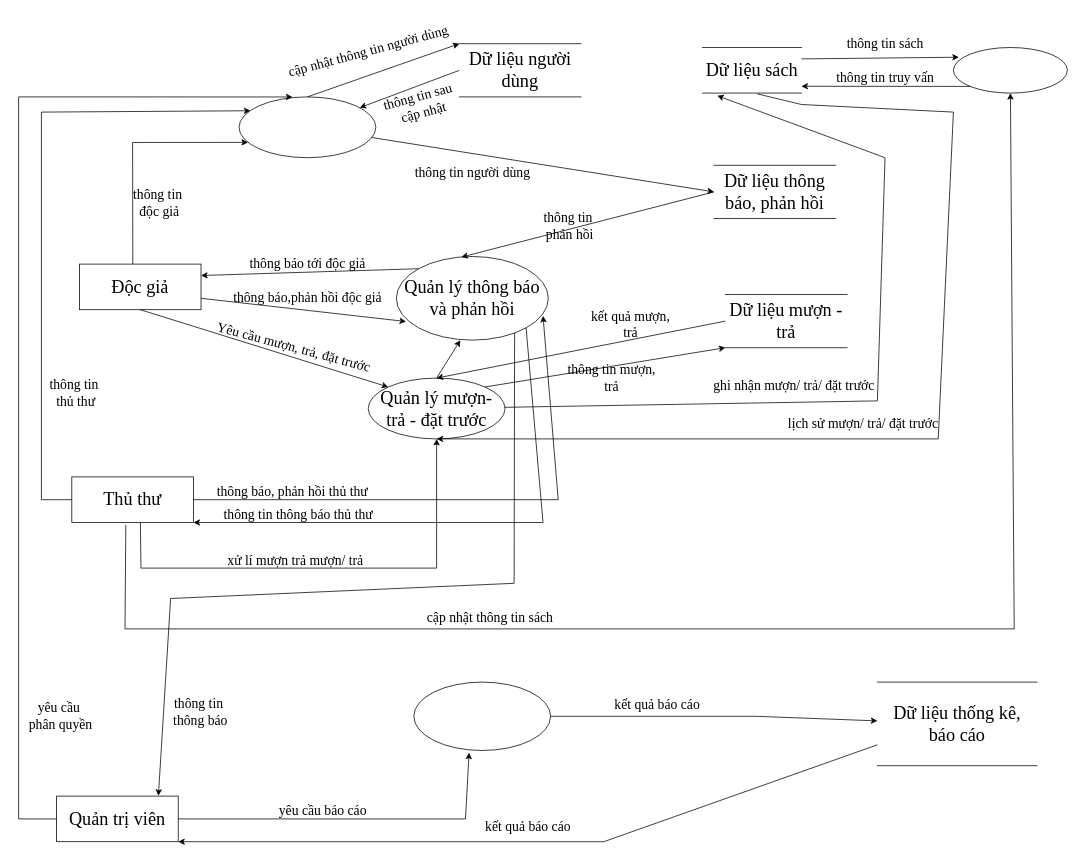
The diagram is 1081 pixels wide and 861 high, and some of its shapes have lost their labels. The centre of each missing label's shape, as x and y in pixels:
Báo cáo - thống kê: the point at 482,715
Quản lý sách: the point at 1010,70
Quản lý tài khoản: the point at 307,127
